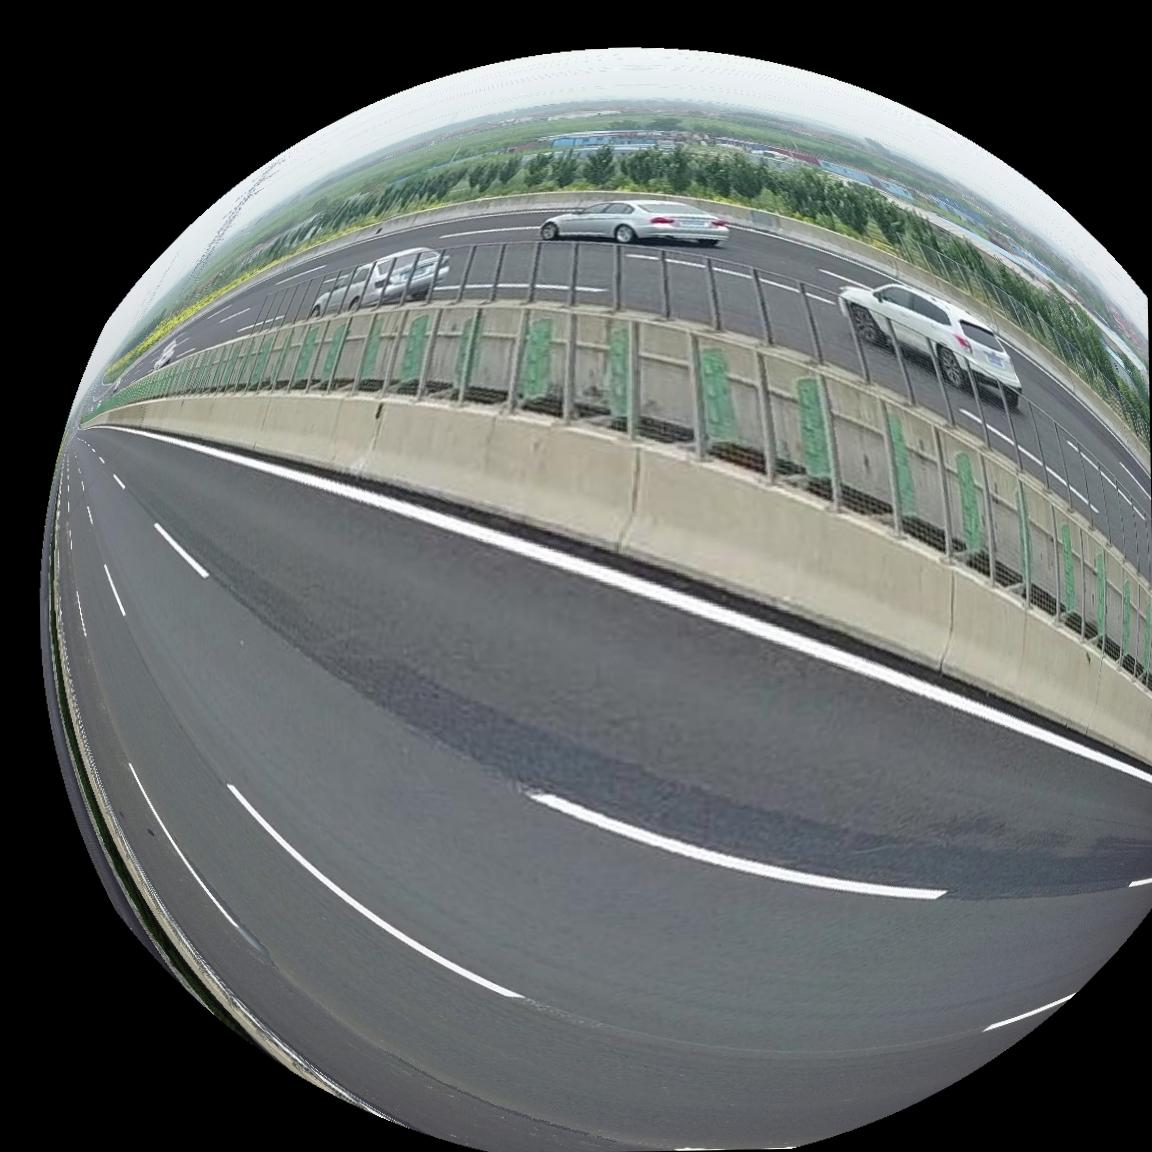cars: (842, 282, 1023, 407), (308, 246, 439, 316), (540, 196, 729, 245)
